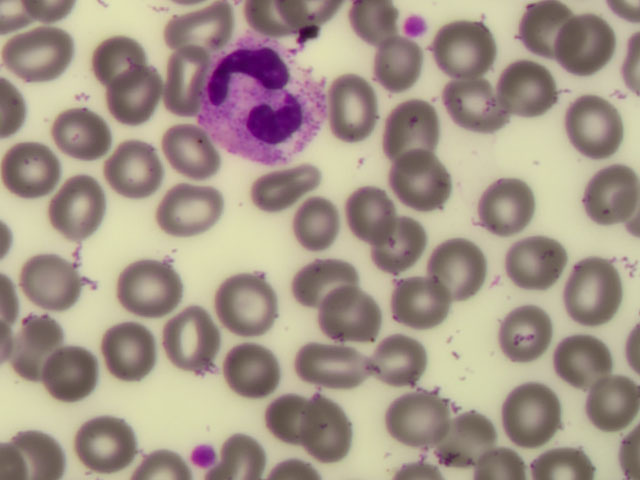Platelets: (398, 11, 429, 41), (191, 441, 217, 467)
RBC: (5, 26, 70, 89), (83, 15, 148, 78), (101, 63, 166, 126), (48, 97, 113, 160), (3, 141, 68, 204), (51, 171, 116, 234), (102, 135, 167, 198), (157, 119, 222, 182), (147, 46, 212, 109), (165, 1, 230, 64), (154, 181, 219, 244), (126, 250, 191, 313), (34, 252, 99, 315), (9, 308, 74, 371), (34, 337, 99, 400), (95, 320, 160, 383), (156, 310, 221, 373), (77, 412, 142, 475), (221, 337, 286, 400), (214, 273, 279, 336), (293, 250, 358, 313), (321, 278, 386, 341), (285, 199, 350, 262), (245, 157, 310, 220), (329, 73, 394, 136), (352, 35, 417, 98), (381, 90, 446, 153), (385, 153, 450, 216), (343, 183, 408, 246), (365, 211, 430, 274), (426, 232, 491, 295), (397, 278, 462, 341), (360, 340, 425, 403), (303, 341, 368, 404), (311, 403, 376, 466), (252, 389, 317, 452), (224, 417, 289, 480), (392, 388, 457, 451), (430, 399, 495, 462), (500, 386, 565, 449), (497, 296, 562, 359), (503, 227, 568, 290), (481, 182, 546, 245), (439, 77, 504, 140), (434, 17, 499, 80), (498, 56, 563, 119), (511, 1, 576, 64), (552, 12, 617, 75), (563, 91, 628, 154), (575, 171, 640, 234), (562, 259, 627, 322), (543, 328, 608, 391), (575, 375, 640, 438)
WBC: (201, 42, 325, 161)
